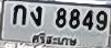letters: (29, 5, 44, 28), (12, 4, 27, 26), (54, 7, 67, 29), (68, 8, 81, 30), (95, 10, 108, 32), (82, 9, 94, 32)
province: (32, 31, 78, 46)
